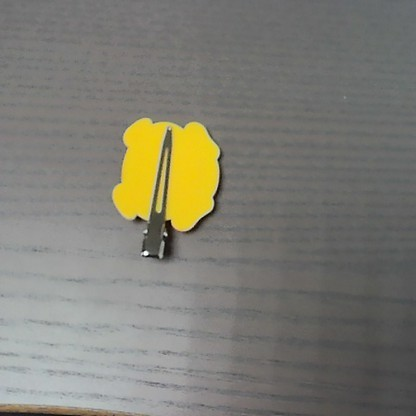dogclip: (114, 113, 221, 260)
